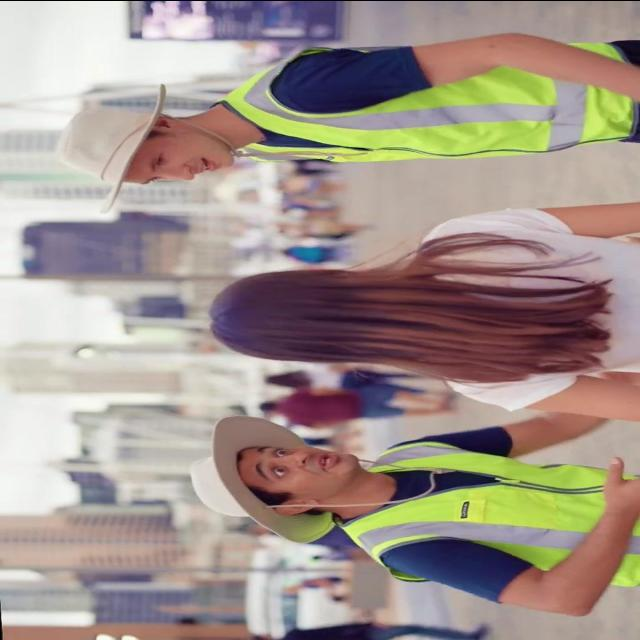jacket: (224, 27, 616, 178), (334, 433, 640, 594)
